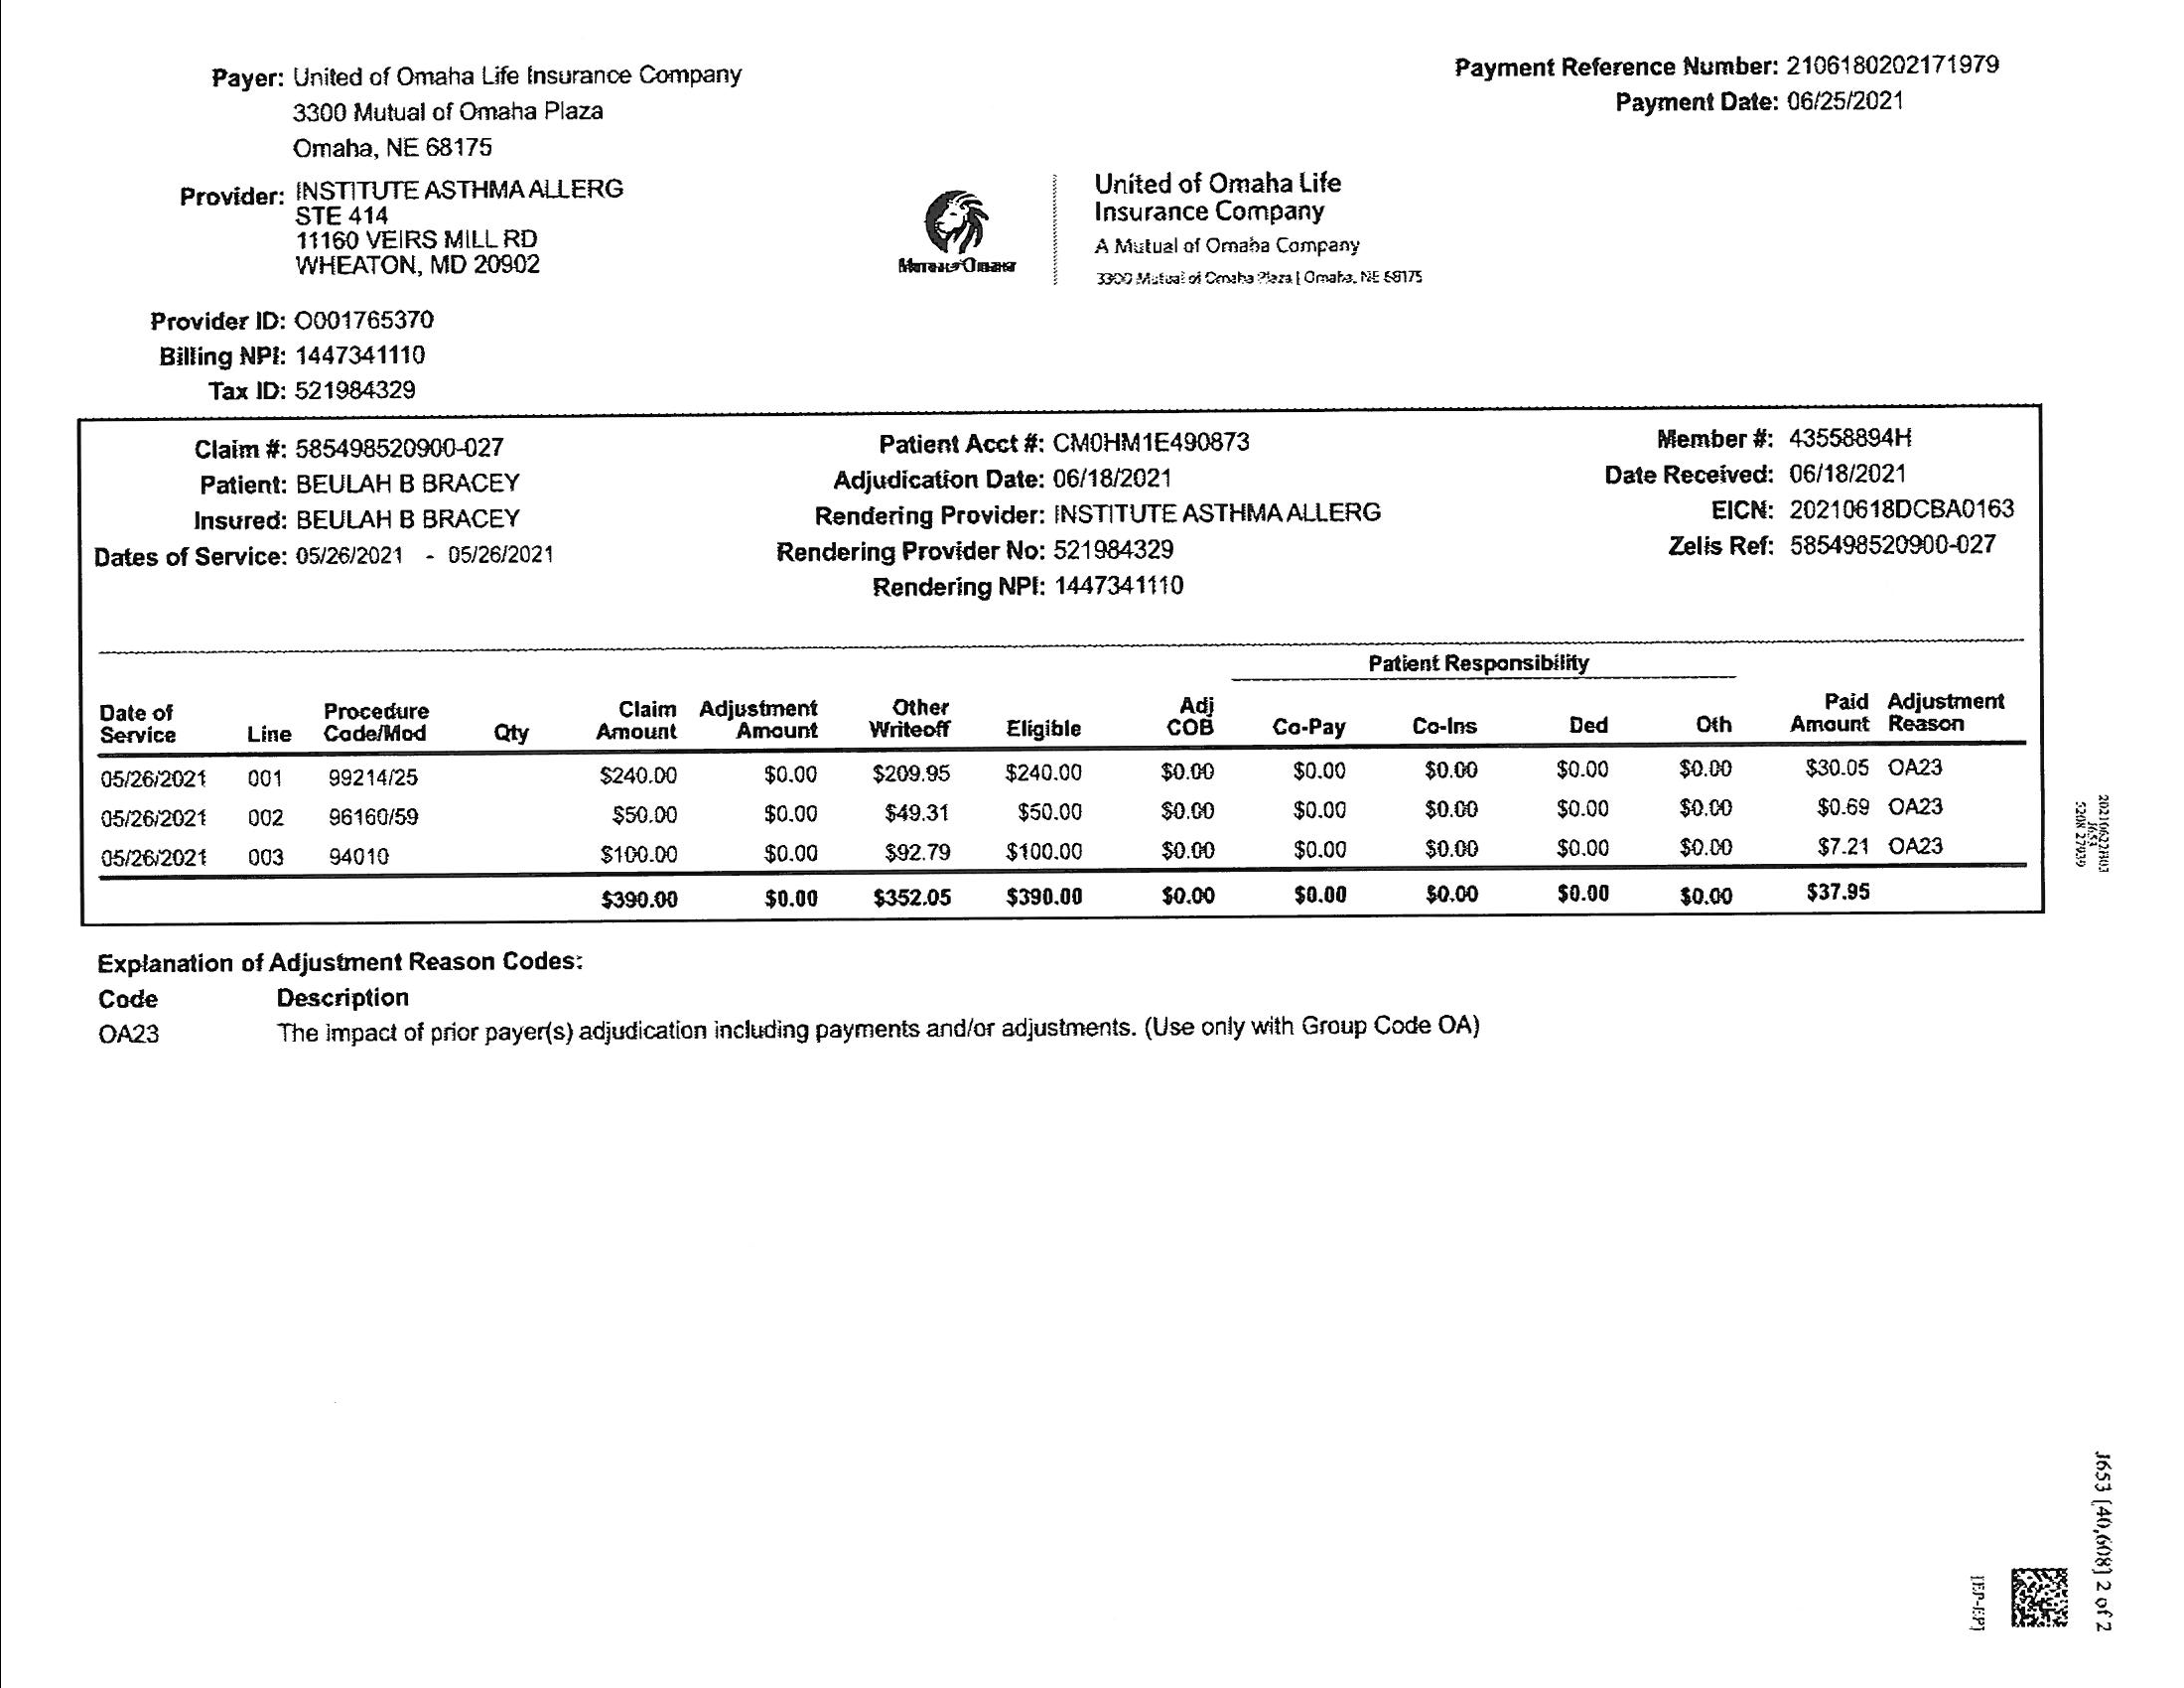data: (764, 422, 1427, 617), (1601, 424, 2028, 599), (92, 433, 581, 583), (195, 51, 766, 156), (168, 174, 633, 291), (1441, 44, 2005, 128), (136, 298, 448, 415)
table: (69, 642, 2051, 918)
